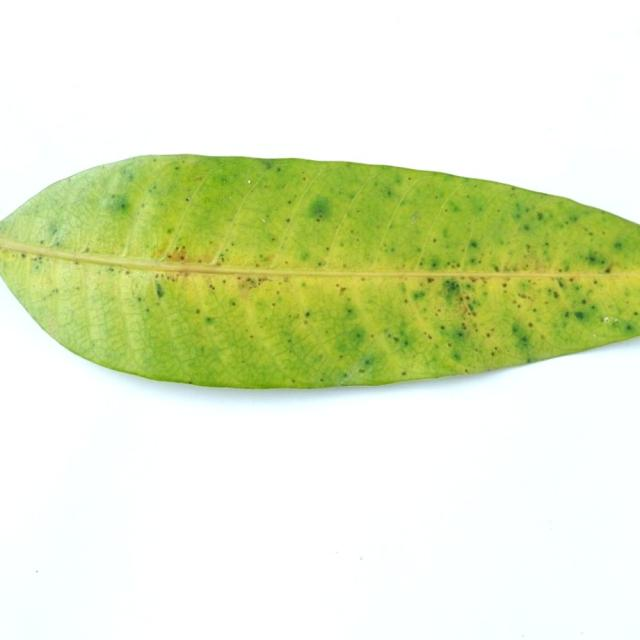Mango: (0, 155, 639, 388)
Powdery_Mildew: (175, 283, 292, 362), (485, 197, 559, 259), (419, 296, 490, 360), (417, 238, 479, 271), (157, 264, 225, 290), (509, 319, 534, 346), (310, 191, 331, 223), (235, 275, 272, 292), (443, 284, 465, 306), (105, 194, 129, 214), (168, 267, 203, 279), (167, 246, 189, 262), (566, 309, 593, 322), (461, 298, 478, 315), (348, 328, 365, 344), (259, 252, 276, 266), (425, 256, 442, 269), (296, 248, 311, 261), (260, 160, 279, 170), (154, 282, 165, 299), (413, 290, 427, 302), (585, 254, 600, 265), (623, 320, 636, 332), (399, 336, 411, 348), (517, 292, 532, 301), (613, 241, 625, 251), (604, 263, 614, 273), (49, 227, 58, 236), (469, 240, 478, 249), (411, 211, 419, 221), (52, 239, 61, 247), (363, 358, 372, 366), (219, 177, 228, 185), (282, 276, 291, 284), (204, 317, 214, 324), (536, 212, 544, 220), (345, 308, 353, 315), (33, 263, 40, 271), (166, 226, 174, 233), (339, 286, 347, 293), (427, 277, 435, 284), (552, 291, 559, 298), (386, 189, 393, 196), (392, 336, 399, 343), (316, 259, 323, 266), (140, 202, 147, 209), (604, 316, 611, 323), (107, 266, 115, 272), (136, 296, 143, 302), (197, 258, 204, 264), (52, 288, 59, 294), (73, 259, 80, 265), (20, 252, 27, 258), (564, 311, 570, 317), (581, 299, 587, 305), (501, 282, 507, 288), (196, 177, 203, 182), (305, 311, 310, 317), (195, 309, 201, 314), (401, 371, 407, 376), (358, 368, 364, 373), (39, 239, 45, 244), (187, 379, 193, 384), (231, 301, 236, 306), (145, 307, 150, 312), (175, 166, 180, 171), (335, 283, 340, 288), (231, 241, 236, 246), (440, 325, 445, 330), (432, 237, 437, 242), (125, 270, 130, 275), (284, 260, 289, 265), (436, 309, 441, 314), (427, 334, 432, 339), (528, 322, 533, 327), (371, 333, 375, 339), (360, 277, 366, 281), (185, 197, 190, 201), (302, 177, 307, 181), (404, 299, 408, 304), (271, 303, 276, 307), (325, 246, 329, 251), (286, 218, 290, 222), (287, 200, 291, 204), (350, 229, 354, 233), (407, 177, 412, 180), (637, 311, 640, 316), (434, 196, 438, 199)
